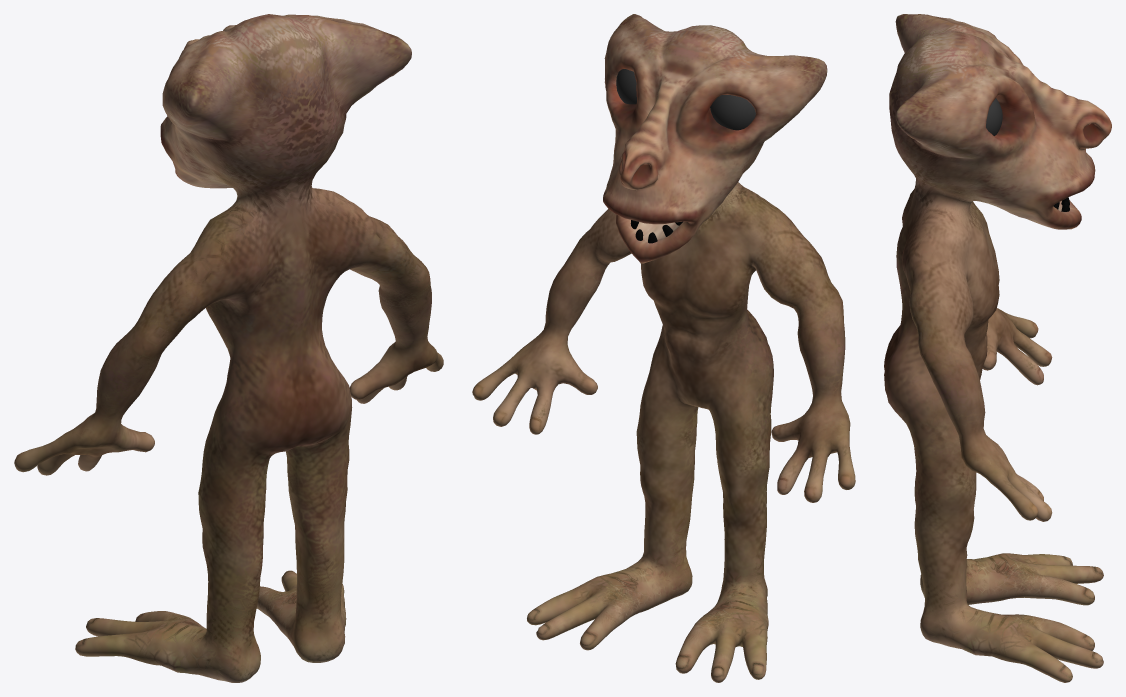
The model's file is frogman blend origional with rig .fbx.
3 renders of one model, left to right at view 1: azimuth 30°, elevation 25°; view 2: azimuth 150°, elevation 25°; view 3: azimuth 270°, elevation 25°, orthographic. The views are drawn at different scales.
Parts seen in each view (by area): view 1: Group1; view 2: Group1; view 3: Group1.
Boxes of the visible parts, <box> form: Group1: <box>14,14,443,682</box>; Group1: <box>472,14,855,682</box>; Group1: <box>884,14,1111,682</box>.
Bounding box in the file's own units: 813 × 1186 × 414.
2 materials, 1 textured.
